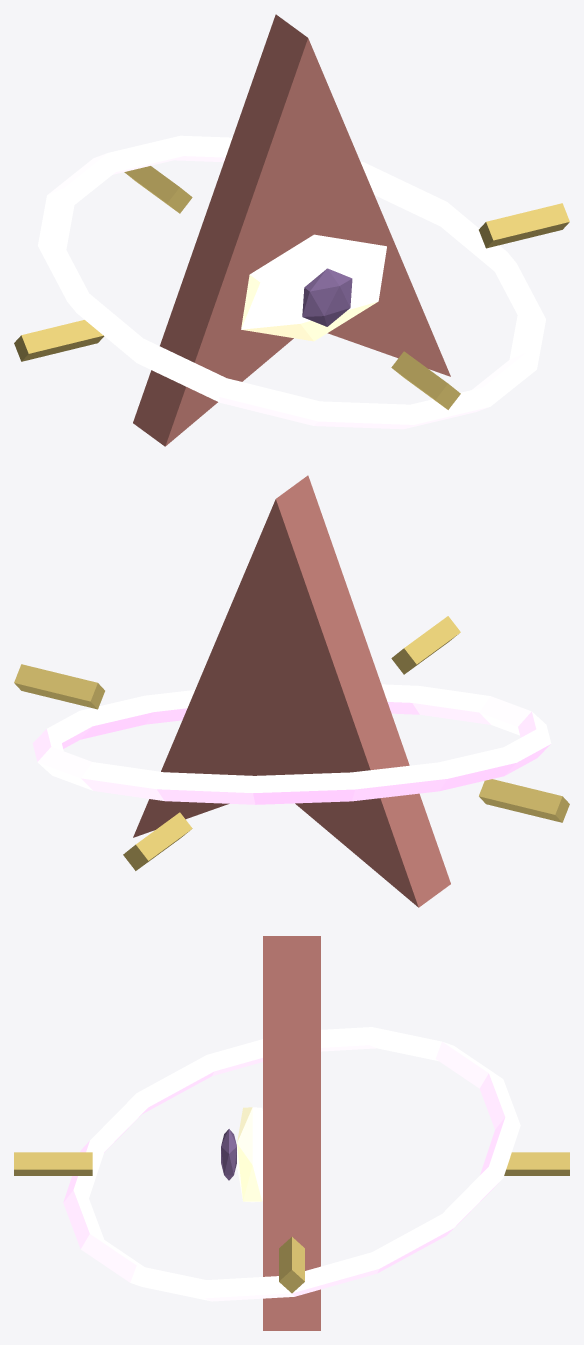
Rendered from hunters_mark.glb.
3 renders of one model, top to bottom at view 1: azimuth 30°, elevation 25°; view 2: azimuth 150°, elevation 25°; view 3: azimuth 270°, elevation 25°, orthographic. The views are drawn at different scales.
Parts seen in each view (by area): view 1: MarkArrowhead, TargetRing, HunterEye, Reticle_0, EyePupil, Reticle_2, Reticle_3, Reticle_1; view 2: MarkArrowhead, TargetRing, Reticle_0, Reticle_2, Reticle_1, Reticle_3; view 3: TargetRing, MarkArrowhead, HunterEye, Reticle_3, Reticle_1, Reticle_0, EyePupil.
Part boxes in pixels (x1,y1,x2,y2): MarkArrowhead: (133, 14, 450, 446); TargetRing: (38, 135, 545, 429); HunterEye: (241, 234, 386, 341); Reticle_0: (479, 203, 569, 248); EyePupil: (302, 268, 352, 326); Reticle_2: (14, 320, 104, 361); Reticle_3: (391, 351, 460, 409); Reticle_1: (124, 166, 192, 213); MarkArrowhead: (133, 475, 450, 907); TargetRing: (32, 684, 551, 804); Reticle_0: (14, 664, 104, 709); Reticle_2: (479, 779, 569, 822); Reticle_1: (123, 812, 192, 870); Reticle_3: (391, 616, 460, 674); TargetRing: (63, 1027, 520, 1301); MarkArrowhead: (263, 936, 320, 1330); HunterEye: (237, 1107, 262, 1202); Reticle_3: (14, 1152, 92, 1175); Reticle_1: (504, 1152, 569, 1175); Reticle_0: (279, 1237, 304, 1293); EyePupil: (221, 1129, 236, 1180).
Bounding box in the file's own units: 1.06 × 0.7 × 1.06.
